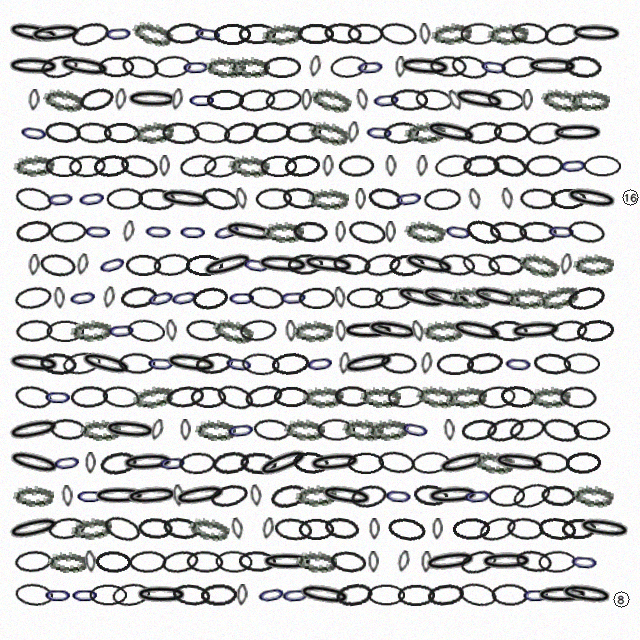chain: (254, 443, 313, 483), (199, 247, 257, 283), (392, 281, 450, 315), (417, 281, 475, 315), (77, 347, 135, 381), (5, 446, 63, 480), (435, 446, 493, 480), (422, 116, 480, 149), (400, 248, 458, 281), (468, 281, 526, 314), (5, 512, 63, 545), (448, 315, 506, 347), (5, 414, 63, 446), (450, 84, 508, 115), (340, 348, 398, 379), (5, 18, 62, 49), (563, 183, 620, 214), (172, 480, 229, 511), (56, 52, 113, 82), (221, 217, 278, 247), (318, 481, 375, 511), (296, 580, 353, 610), (364, 316, 421, 345), (163, 349, 220, 378), (576, 514, 633, 543), (422, 547, 479, 576), (558, 580, 615, 609), (157, 185, 214, 213), (300, 251, 357, 278), (491, 449, 548, 476), (28, 20, 84, 47), (6, 350, 62, 377), (307, 449, 363, 476), (536, 281, 581, 314), (397, 54, 453, 80), (102, 417, 158, 443), (124, 483, 180, 509), (510, 479, 553, 512), (255, 252, 311, 277), (508, 318, 564, 343), (120, 450, 176, 475), (425, 483, 481, 508), (130, 18, 175, 49), (101, 512, 143, 545), (463, 216, 505, 248), (214, 381, 256, 413), (477, 513, 519, 545), (458, 546, 500, 578), (309, 85, 353, 115), (307, 118, 351, 148), (517, 250, 561, 280), (211, 316, 255, 346), (131, 382, 175, 412), (484, 414, 526, 445), (569, 22, 624, 45), (6, 55, 61, 78), (525, 55, 580, 78), (125, 88, 180, 111), (479, 550, 534, 573), (69, 19, 111, 49), (449, 52, 491, 82), (118, 151, 160, 181), (13, 184, 55, 214), (199, 184, 241, 214), (346, 217, 388, 247), (460, 250, 502, 280), (565, 283, 607, 313), (540, 415, 582, 445), (208, 481, 250, 511), (77, 84, 117, 115), (187, 515, 231, 543), (221, 118, 262, 148), (268, 481, 309, 511), (550, 122, 605, 144), (341, 320, 396, 342), (92, 485, 147, 507), (260, 551, 315, 573), (134, 584, 189, 606), (535, 584, 590, 606), (42, 86, 85, 114), (540, 86, 583, 114), (490, 151, 530, 181), (39, 52, 80, 81), (243, 382, 284, 411), (507, 415, 548, 444), (457, 580, 498, 609), (430, 20, 473, 47), (132, 119, 175, 146), (70, 515, 113, 542), (378, 20, 419, 48), (120, 53, 161, 81), (202, 152, 243, 180), (566, 218, 607, 246), (362, 251, 403, 279), (13, 284, 54, 312), (13, 383, 54, 411), (386, 515, 427, 543), (525, 119, 565, 147), (38, 251, 78, 279), (98, 449, 138, 477), (349, 482, 389, 510), (160, 548, 200, 576), (261, 21, 304, 47), (445, 384, 488, 410), (178, 152, 219, 179), (433, 152, 474, 179), (61, 350, 102, 377), (376, 449, 417, 476), (366, 185, 405, 213), (191, 119, 231, 146), (463, 119, 503, 146), (14, 218, 54, 245), (246, 284, 286, 311), (126, 317, 166, 344), (194, 350, 234, 377), (47, 515, 87, 542), (161, 515, 201, 542), (537, 515, 577, 542), (514, 548, 554, 575), (111, 581, 151, 608), (334, 581, 374, 608), (281, 185, 320, 212), (119, 284, 158, 311), (465, 350, 504, 377), (211, 449, 250, 476), (404, 120, 446, 145), (13, 153, 55, 178), (404, 219, 446, 244), (70, 318, 112, 343), (416, 384, 458, 409), (342, 417, 384, 442), (367, 417, 409, 442), (473, 450, 515, 475), (295, 483, 337, 508), (237, 87, 277, 113), (414, 87, 454, 113), (486, 87, 526, 113), (488, 219, 528, 245), (549, 318, 589, 344), (532, 351, 572, 377), (165, 384, 205, 410), (477, 384, 517, 410), (252, 417, 292, 443), (273, 516, 313, 542), (171, 582, 211, 608), (323, 515, 361, 542), (95, 250, 130, 279), (543, 21, 582, 47), (264, 87, 303, 113), (437, 252, 476, 278), (191, 285, 230, 311), (101, 384, 140, 410), (460, 417, 499, 443), (329, 549, 368, 575), (426, 582, 465, 608), (487, 22, 529, 46), (228, 154, 270, 178), (506, 286, 548, 310), (292, 319, 334, 343), (422, 319, 464, 343), (302, 385, 344, 409), (529, 385, 571, 409), (572, 484, 614, 508), (510, 21, 550, 46), (329, 54, 369, 79), (152, 252, 192, 277), (575, 318, 615, 343), (270, 351, 310, 376), (14, 582, 54, 607), (210, 217, 244, 246), (165, 21, 204, 46), (323, 21, 362, 46), (153, 54, 192, 79), (500, 54, 539, 79), (252, 120, 291, 145), (382, 120, 421, 145), (92, 153, 131, 178), (283, 153, 322, 178), (332, 252, 371, 277), (387, 384, 426, 409), (499, 384, 538, 409), (411, 450, 450, 475), (14, 549, 53, 574), (144, 284, 178, 312), (564, 54, 602, 79), (44, 120, 82, 145), (15, 318, 53, 343), (185, 318, 223, 343), (239, 318, 277, 343), (39, 351, 77, 376), (380, 351, 418, 376), (49, 417, 87, 442), (292, 450, 330, 475), (532, 450, 570, 475), (412, 483, 450, 508), (506, 516, 544, 541), (573, 253, 614, 276), (450, 286, 491, 309), (284, 418, 325, 441), (296, 550, 337, 573), (161, 121, 200, 145), (137, 187, 176, 211), (423, 187, 462, 211), (518, 220, 557, 244), (374, 286, 413, 310), (489, 319, 528, 343), (241, 352, 280, 376), (75, 121, 113, 145), (68, 154, 106, 178), (519, 187, 557, 211), (49, 220, 87, 244), (388, 253, 426, 277), (487, 253, 525, 277), (559, 385, 597, 409), (178, 451, 216, 475), (239, 451, 277, 475), (205, 56, 246, 78), (229, 56, 270, 78), (569, 89, 610, 111), (308, 188, 349, 210), (263, 221, 304, 243), (360, 386, 401, 408), (80, 419, 121, 441), (195, 419, 236, 441), (13, 485, 54, 507), (47, 551, 88, 573), (168, 284, 201, 311), (399, 416, 432, 443), (255, 581, 288, 608), (292, 220, 329, 244), (540, 484, 577, 508), (460, 22, 498, 45), (429, 55, 467, 78), (390, 88, 428, 111), (462, 154, 500, 177), (525, 154, 563, 177), (118, 352, 156, 375), (70, 385, 108, 408), (317, 418, 355, 441), (452, 517, 490, 540), (129, 550, 167, 573), (186, 550, 224, 573), (215, 550, 253, 573), (238, 550, 276, 573), (538, 550, 576, 573), (491, 583, 529, 606), (442, 219, 475, 245), (240, 252, 273, 278), (285, 121, 322, 144), (493, 121, 530, 144), (338, 154, 375, 177), (106, 187, 143, 210), (255, 187, 292, 210), (287, 253, 324, 276), (563, 352, 600, 375), (334, 385, 371, 408), (565, 451, 602, 474), (488, 484, 525, 507), (137, 517, 174, 540), (95, 550, 132, 573), (200, 583, 237, 606), (213, 23, 251, 45), (238, 23, 276, 45), (263, 56, 301, 78), (206, 89, 244, 111), (583, 155, 621, 177), (185, 254, 223, 276), (346, 287, 384, 309), (46, 320, 84, 342), (436, 353, 474, 375), (573, 419, 611, 441), (89, 584, 127, 606), (367, 584, 405, 606), (397, 584, 435, 606), (192, 21, 224, 47), (478, 54, 510, 80), (18, 120, 50, 146), (223, 351, 255, 377), (297, 23, 334, 45), (347, 23, 384, 45), (98, 56, 135, 78), (103, 122, 140, 144), (45, 155, 82, 177), (260, 155, 297, 177), (550, 188, 587, 210), (125, 254, 162, 276), (298, 287, 335, 309), (190, 386, 227, 408), (273, 386, 310, 408), (347, 452, 384, 474), (298, 518, 335, 540), (76, 186, 108, 211), (393, 186, 425, 211), (67, 285, 99, 310), (304, 351, 336, 376), (51, 450, 83, 475), (561, 518, 597, 540), (225, 418, 257, 442), (355, 55, 386, 79), (371, 88, 402, 112), (45, 187, 76, 211), (503, 352, 534, 376), (157, 451, 188, 475), (383, 484, 414, 508), (462, 484, 493, 508), (569, 550, 600, 574), (280, 583, 311, 607), (103, 22, 134, 45), (364, 121, 395, 144), (558, 154, 589, 177), (143, 220, 174, 243), (546, 220, 577, 243), (278, 286, 309, 309), (106, 319, 137, 342), (83, 220, 113, 243), (146, 352, 176, 375), (181, 56, 211, 78), (187, 89, 217, 111), (178, 221, 208, 243), (227, 287, 257, 309), (43, 386, 73, 408), (75, 485, 105, 507), (43, 584, 73, 606), (70, 584, 100, 606), (521, 584, 551, 606), (446, 88, 465, 112), (467, 187, 483, 211), (410, 319, 426, 343), (149, 418, 165, 442), (355, 88, 370, 111), (234, 187, 249, 210), (500, 187, 515, 210), (121, 220, 136, 243), (75, 253, 90, 276), (230, 517, 245, 540), (396, 550, 411, 573), (308, 55, 322, 78), (170, 88, 184, 111), (346, 121, 360, 144), (559, 253, 573, 276), (102, 286, 116, 309), (333, 286, 347, 309), (249, 484, 263, 507), (261, 517, 275, 540), (114, 88, 127, 111), (165, 319, 178, 342), (338, 352, 351, 375), (420, 352, 433, 375), (172, 484, 185, 507), (84, 550, 97, 573), (53, 287, 66, 309), (443, 419, 456, 441), (61, 485, 74, 507), (419, 23, 431, 45), (28, 89, 40, 111), (322, 155, 334, 177), (385, 155, 397, 177), (416, 155, 428, 177), (28, 254, 40, 276), (285, 320, 297, 342), (335, 320, 347, 342), (236, 584, 248, 606), (395, 56, 406, 78), (301, 89, 312, 111), (522, 89, 533, 111), (159, 155, 170, 177), (355, 188, 366, 210), (335, 221, 346, 243), (385, 221, 396, 243), (180, 419, 191, 441), (85, 452, 96, 474), (369, 518, 380, 540), (432, 518, 443, 540), (368, 551, 379, 573), (421, 551, 432, 573)
noise: (620, 187, 640, 207), (611, 589, 631, 609)
